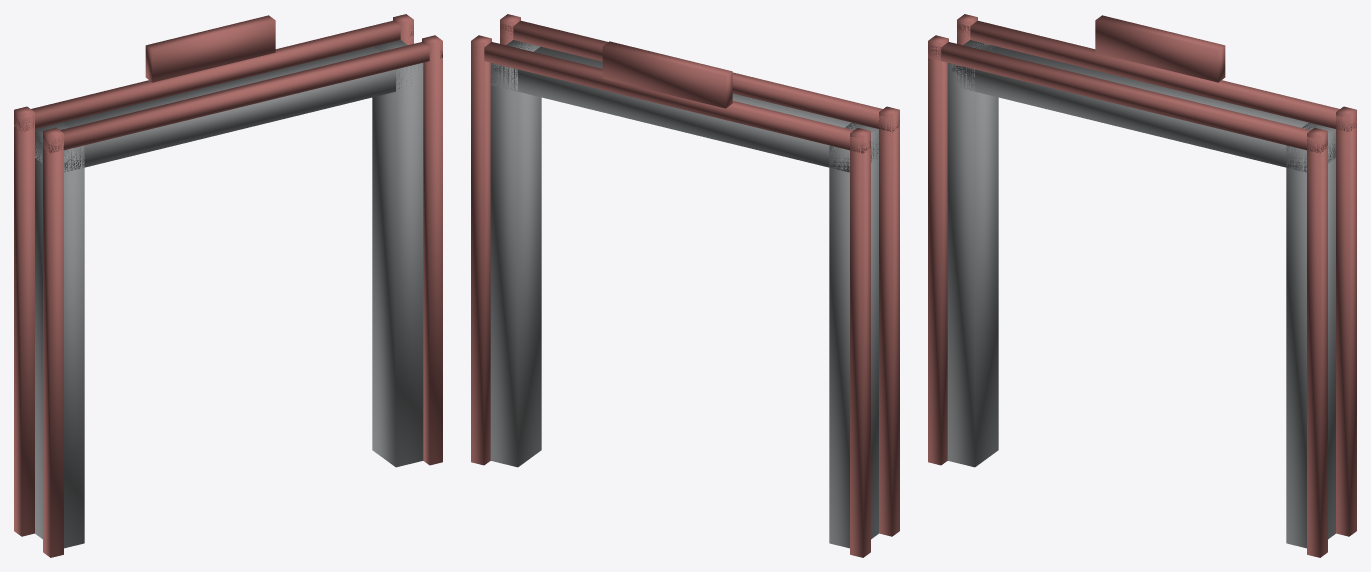
File: doorway_emergency_exit_w182_h210_d24.glb
3 renders of one model, left to right at view 1: azimuth 30°, elevation 25°; view 2: azimuth 150°, elevation 25°; view 3: azimuth 330°, elevation 25°, orthographic.
Parts seen in each view (by area): view 1: world; view 2: world; view 3: world.
Part boxes in pixels (<box>): world: <box>14,14,442,557</box>; world: <box>471,14,899,557</box>; world: <box>928,14,1356,557</box>.
Bounding box in the file's own units: 2.29 × 2.52 × 0.4003.
